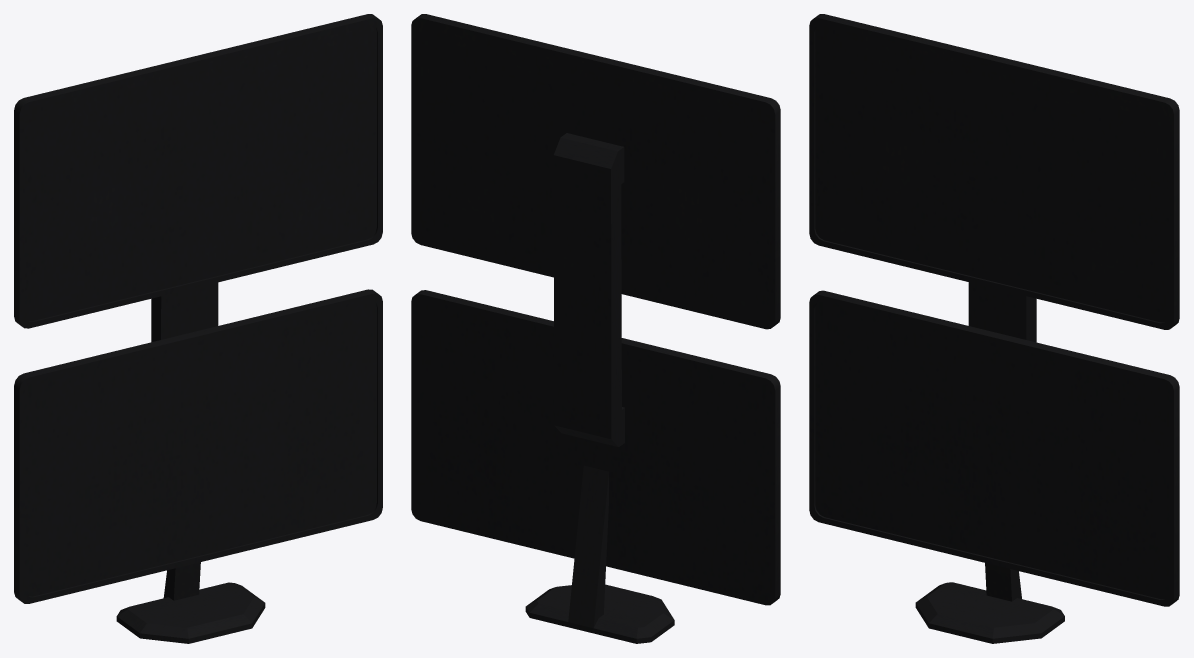
File: 05_monitor4_server_destructible.glb
3 views of the same model, side by side, from view 1: azimuth 30°, elevation 25°; view 2: azimuth 150°, elevation 25°; view 3: azimuth 330°, elevation 25° (orthographic).
Parts seen in each view (by area): view 1: IntactGeometry; view 2: IntactGeometry; view 3: IntactGeometry.
Part boxes in pixels (x1,y1,x2,y2): IntactGeometry: (14,14,382,643); IntactGeometry: (411,14,780,643); IntactGeometry: (809,14,1179,643).
Bounding box in the file's own units: 0.684 × 1 × 0.1516.
Materials: 1 (1 with a texture image).
